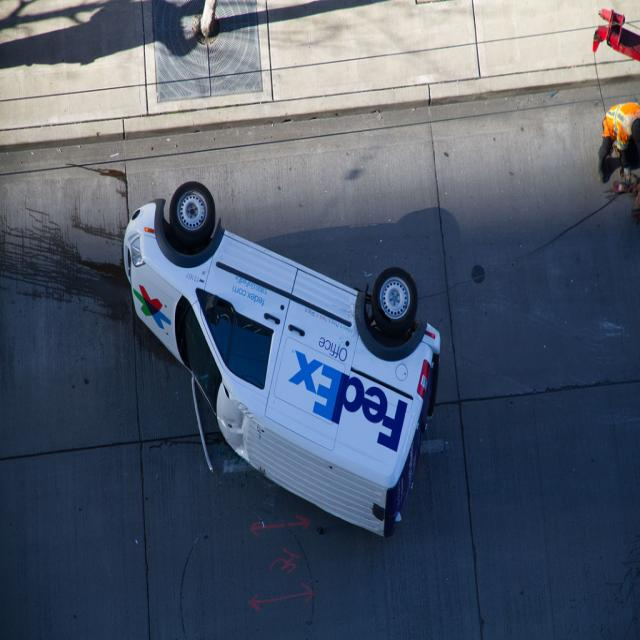car: (122, 176, 439, 537)
